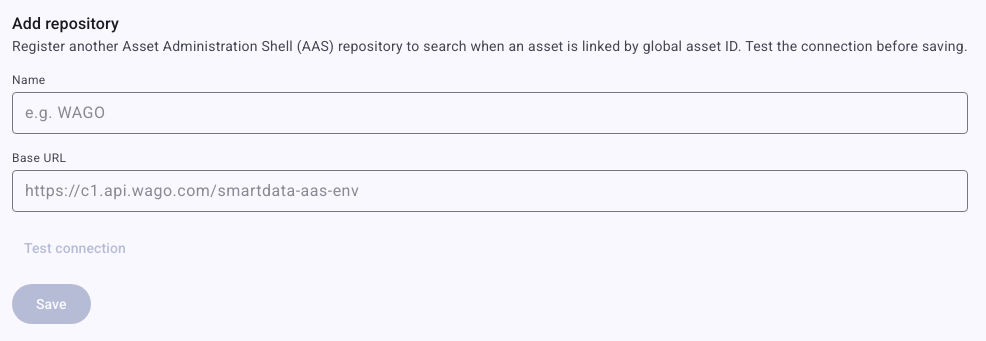
Test: AasRepositoryWizard (create mode) › keeps Save disabled when the name is blank even after a successful test
Type "https://example.com" into the field labelled "Base URL" at (490, 191), box [12,170,968,212]
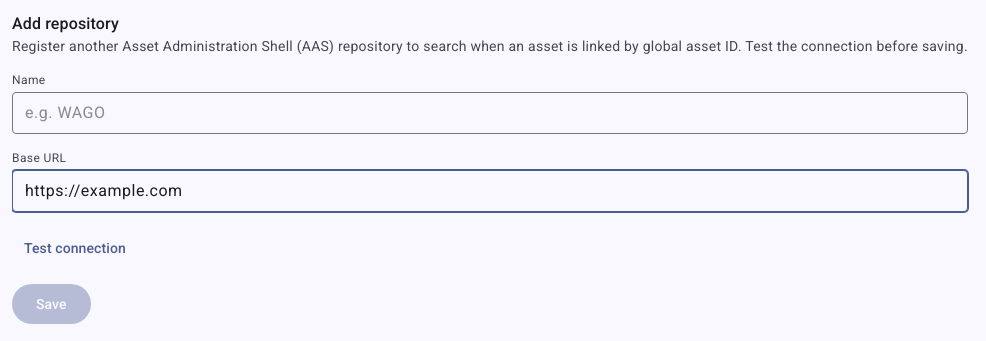
Click the button "Test connection" at (75, 248), box [12,228,138,268]
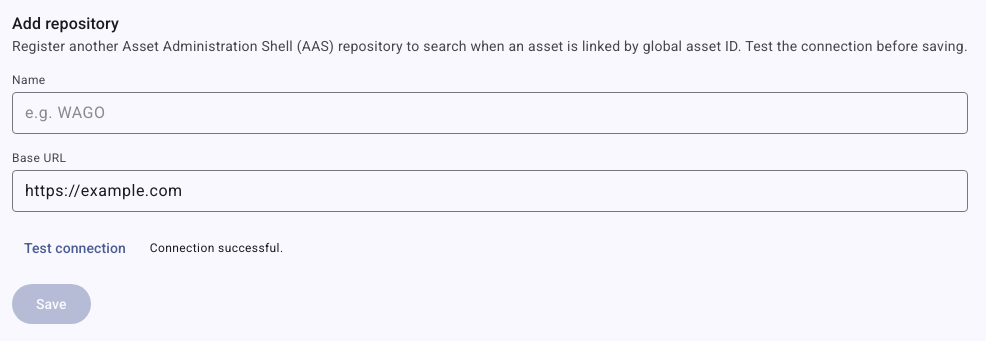
Expected: the button "Save" is disabled, [12,284,91,324]
Expected: the text "Connection successful." is shown, [150,240,283,256]
